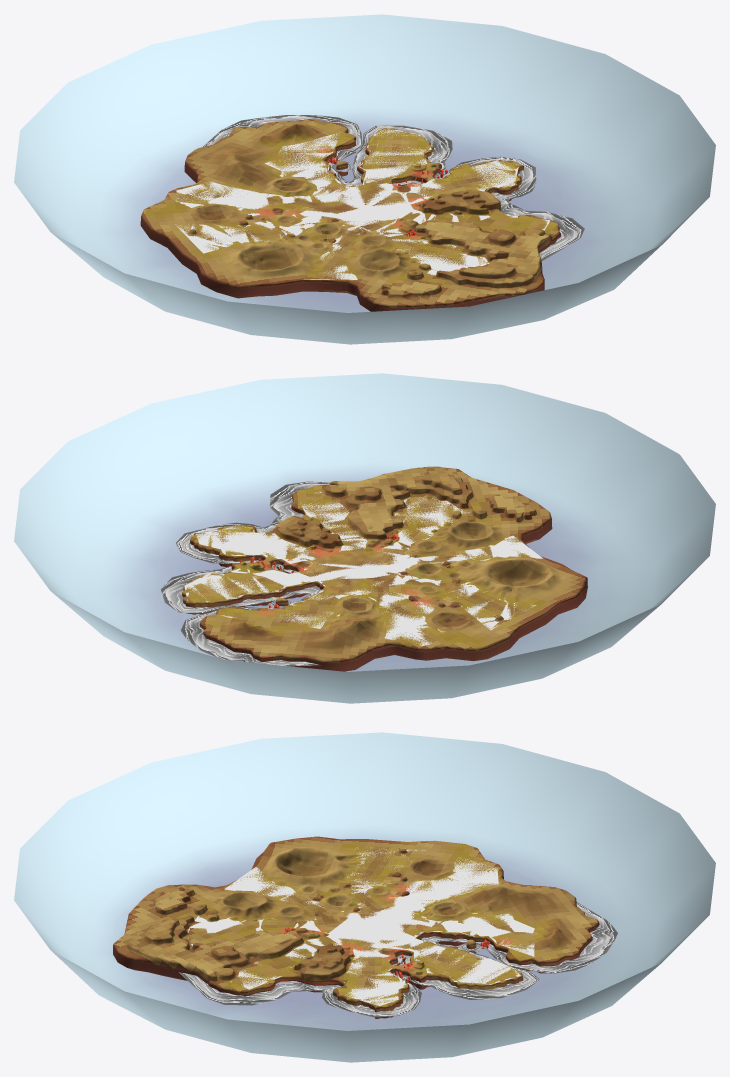
The model's file is Terrain没矿.fbx.
3 views of the same model, one above another, from view 1: azimuth 30°, elevation 25°; view 2: azimuth 150°, elevation 25°; view 3: azimuth 270°, elevation 25° (orthographic).
Parts seen in each view (by area): view 1: sea, floor, floorcollide, wave; view 2: sea, floor, floorcollide, wave; view 3: sea, floor, floorcollide, wave.
Boxes of the visible parts, x1,y1,x2,y2 form: sea: (14,14,715,344); floor: (140,119,560,311); floorcollide: (175,128,549,279); wave: (203,115,584,261); sea: (14,373,715,703); floor: (181,466,587,671); floorcollide: (184,491,542,646); wave: (160,481,329,666); sea: (14,732,715,1062); floor: (113,836,599,1018); floorcollide: (187,847,534,1005); wave: (179,902,617,1017).
Size of the model in its own units: 281 by 25 by 279.
Materials: 4 (3 with a texture image).
